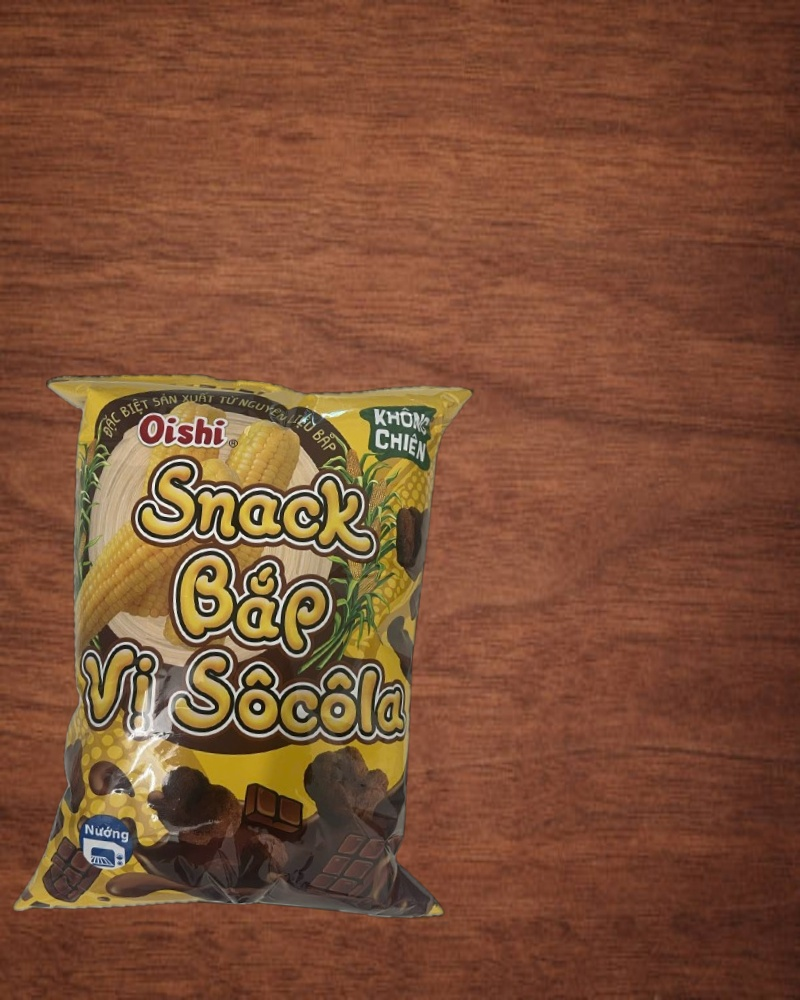Snack socola: (4, 356, 490, 937)
